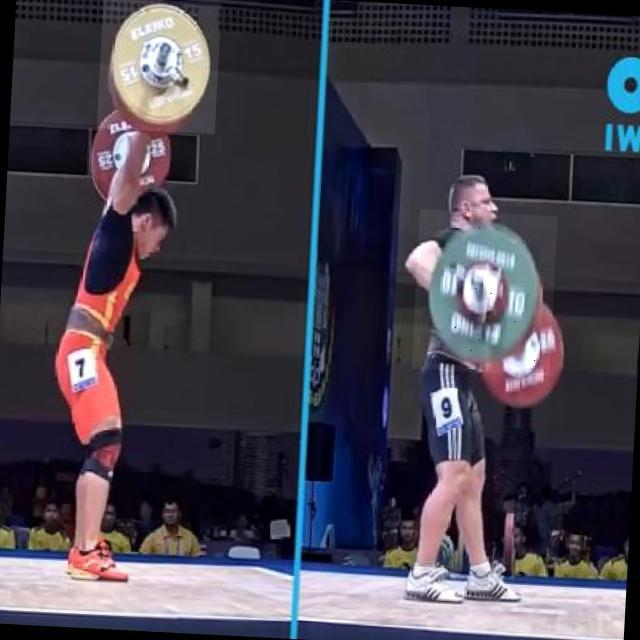barbell: (413, 211, 559, 378), (97, 1, 222, 135)
